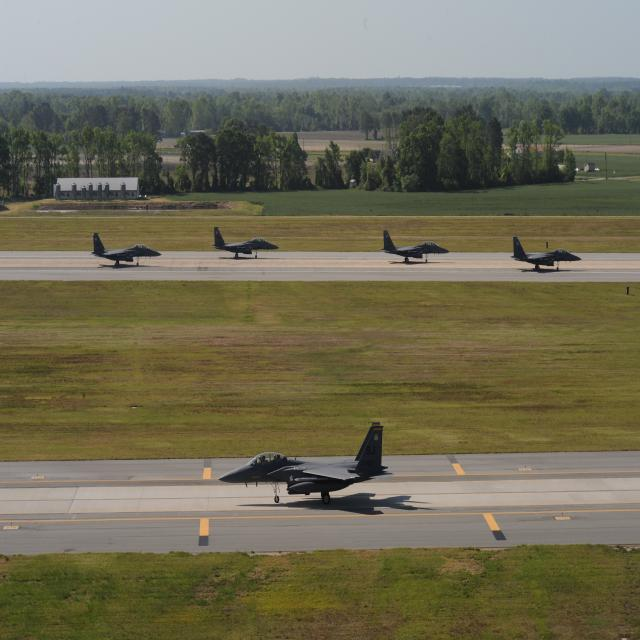MIL_Plane: (218, 422, 396, 505), (88, 233, 162, 266), (509, 237, 582, 270), (379, 230, 450, 262), (210, 227, 279, 258)
